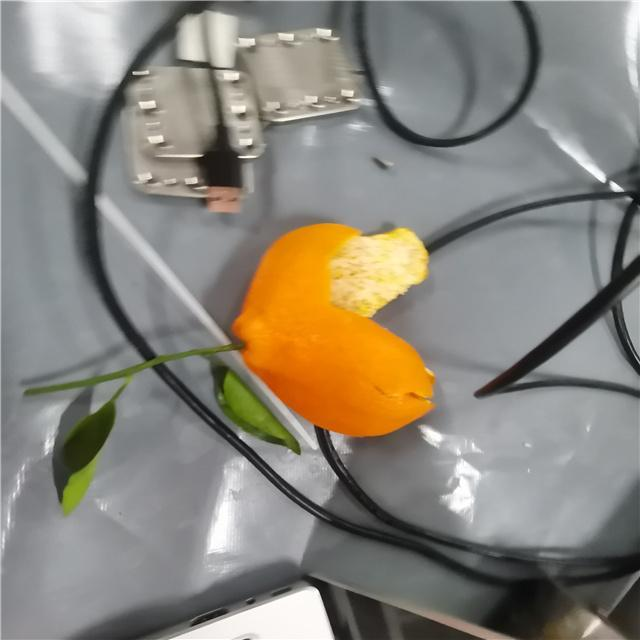orange-peel: (229, 220, 436, 438)
